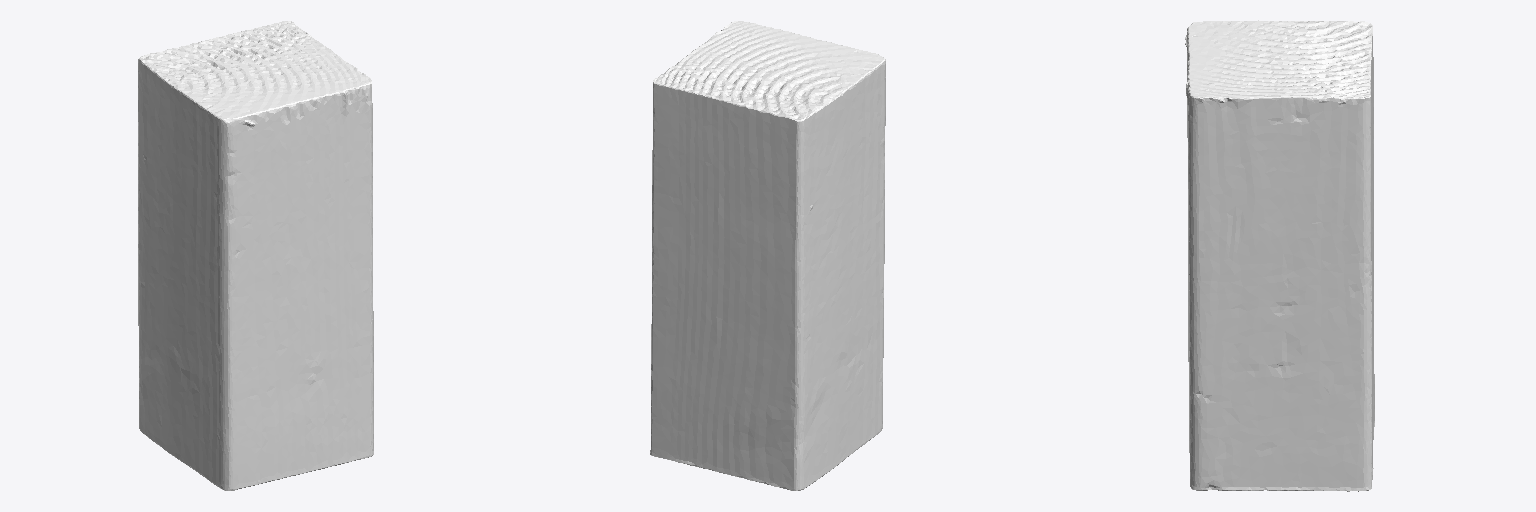
The robot description file, URDF, robot "a_cups":
<robot name="a_cups">
	<link name="base_link">
		<visual>
			<origin xyz="0.03054243478832419 0.04266839741228885 -0.028457527482021325" rpy="0.0 0.0 0.0" />
			<geometry>
				<mesh filename="065-a_cups/google_16k/textured.obj" scale="1 1 1" />
			</geometry>
			<material name="texture">
				<color rgba="1.0 1.0 1.0 1.0" />
			</material>
		</visual>
		<collision>
			<origin xyz="0.03054243478832419 0.04266839741228885 -0.028457527482021325" rpy="0.0 0.0 0.0" />
			<geometry>
				<mesh filename="065-a_cups/google_16k/textured_vhacd.obj" scale="1 1 1" />
			</geometry>
		</collision>
		<inertial>
			<mass value="0.013" />
			<inertia ixx="1e-3" ixy="0.0" ixz="0.0" iyy="1e-3" iyz="0.0" izz="1e-3" />
		</inertial>
	</link>
</robot>

--- Facts derived from the render (not from the file) ---
Views: 3 orthographic renders of the robot side by side, from view 1: azimuth 30°, elevation 25°; view 2: azimuth 150°, elevation 25°; view 3: azimuth 270°, elevation 25°.
Robot: a_cups — 1 links, 0 joints (none); root link base_link; default pose: all joints at 0.
Links seen in each view (by area): view 1: base_link; view 2: base_link; view 3: base_link.
Boxes of the visible links, <box> form: base_link: <box>138,21,373,490</box>; base_link: <box>650,21,885,490</box>; base_link: <box>1185,20,1374,491</box>.
Bounding box of the posed robot: 0.0906 × 0.0899 × 0.206 m (x, y, z).
1 mesh visuals loaded from 1 distinct referenced files (1 OBJ).